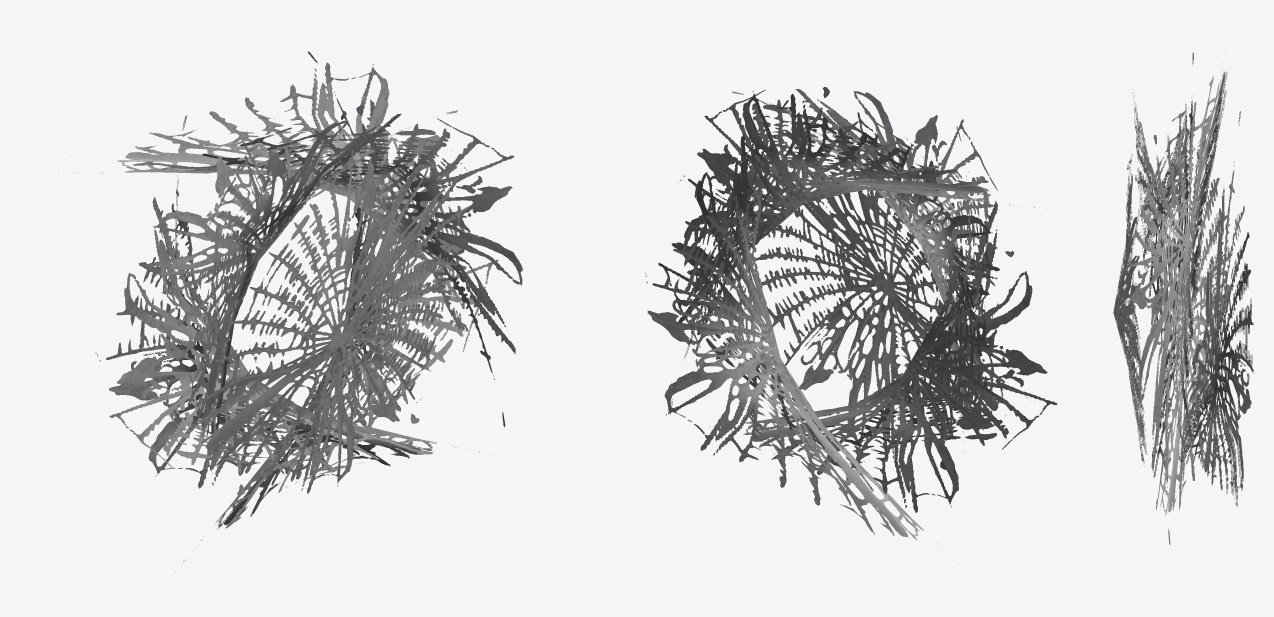
File: DN_cobweb_c.FBX
3 renders of one model, left to right at view 1: azimuth 30°, elevation 25°; view 2: azimuth 150°, elevation 25°; view 3: azimuth 270°, elevation 25°, orthographic. The views are drawn at different scales.
Visible parts, largest first — view 1: DN_cobweb_c; view 2: DN_cobweb_c; view 3: DN_cobweb_c.
Boxes of the visible parts, bbox=[...] form: DN_cobweb_c: bbox=[58, 51, 522, 572]; DN_cobweb_c: bbox=[645, 87, 1057, 564]; DN_cobweb_c: bbox=[1113, 52, 1254, 544].
Bounding box in the file's own units: 528 × 532 × 142.
